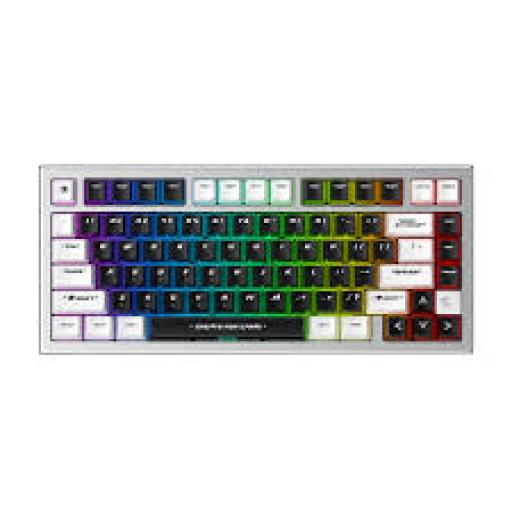keyboard: (36, 166, 471, 350)
